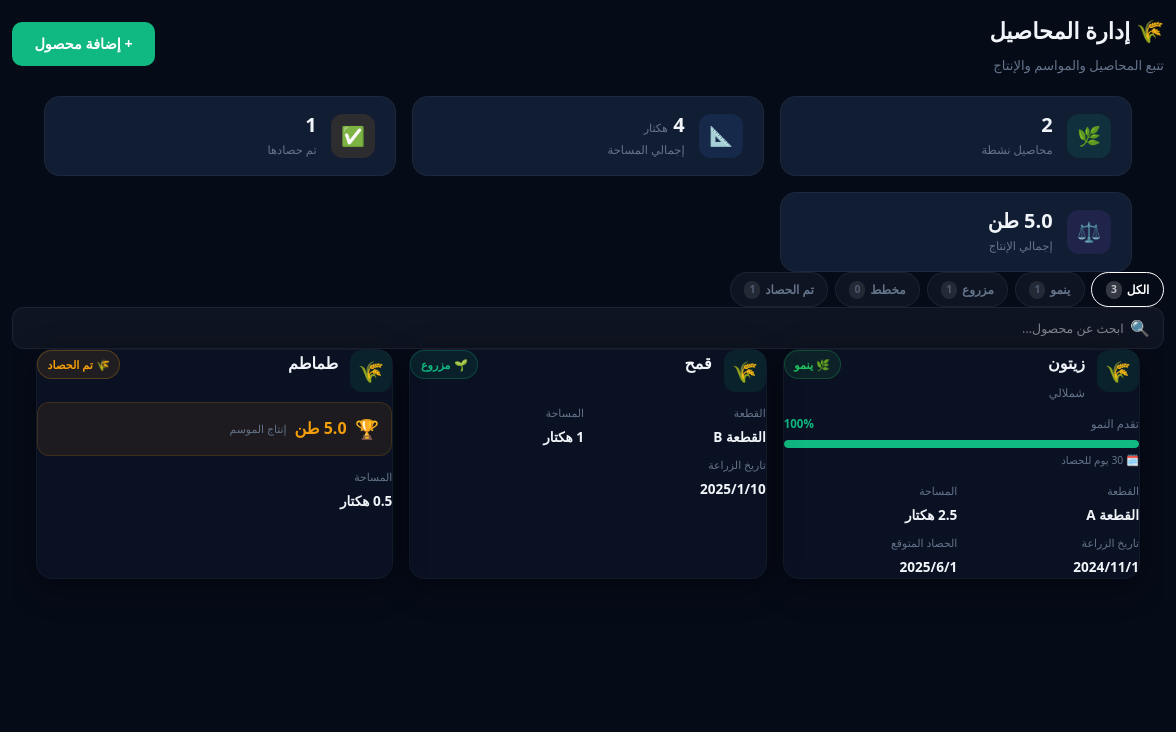
ClientCrops › shows empty state when no crops match
Step 1. Type "xxx" into the field with placeholder "ابحث عن محصول..." → (575, 328), box [26, 318, 1124, 339]
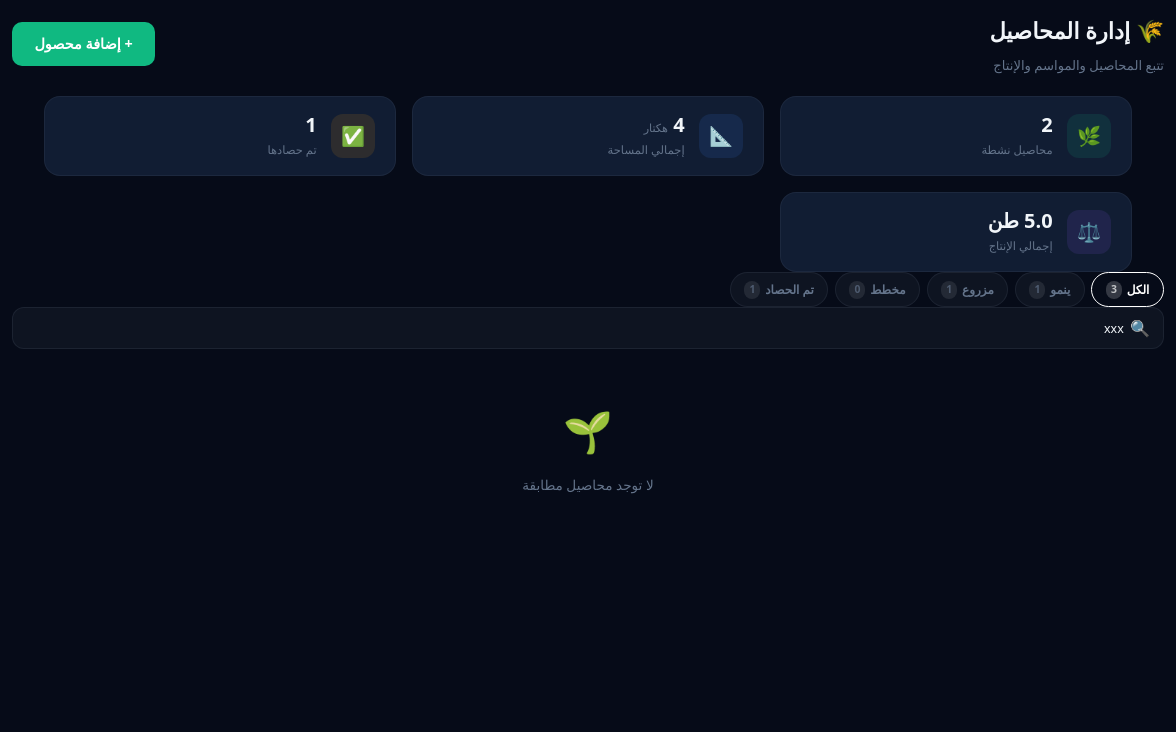
Expected: the text "لا توجد محاصيل مطابقة" is shown, [522, 473, 654, 496]
